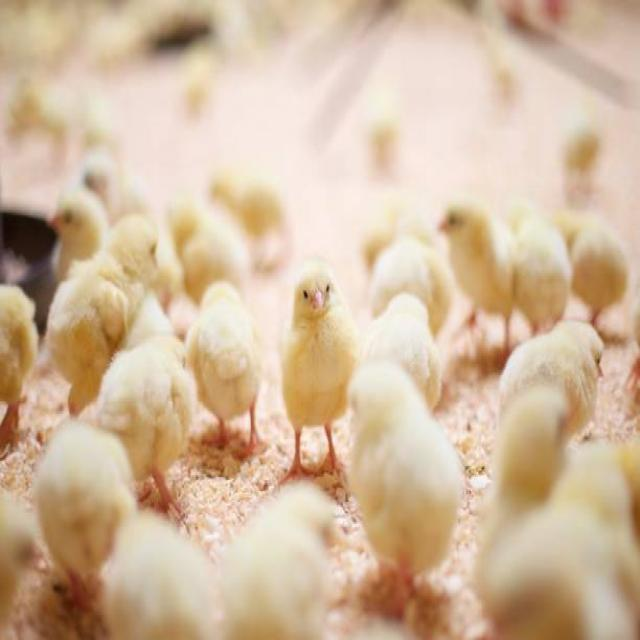Healthy: (271, 260, 367, 486)
